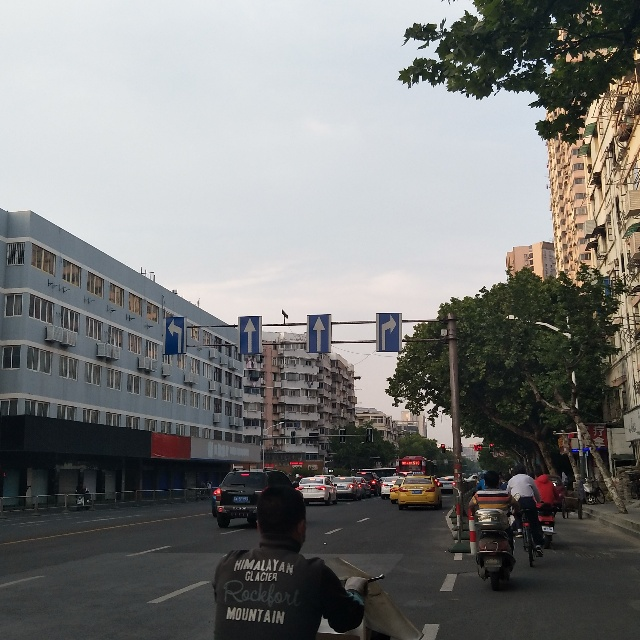left: (163, 316, 185, 356)
right: (379, 313, 401, 351)
straight: (238, 315, 262, 355), (308, 313, 330, 350)
